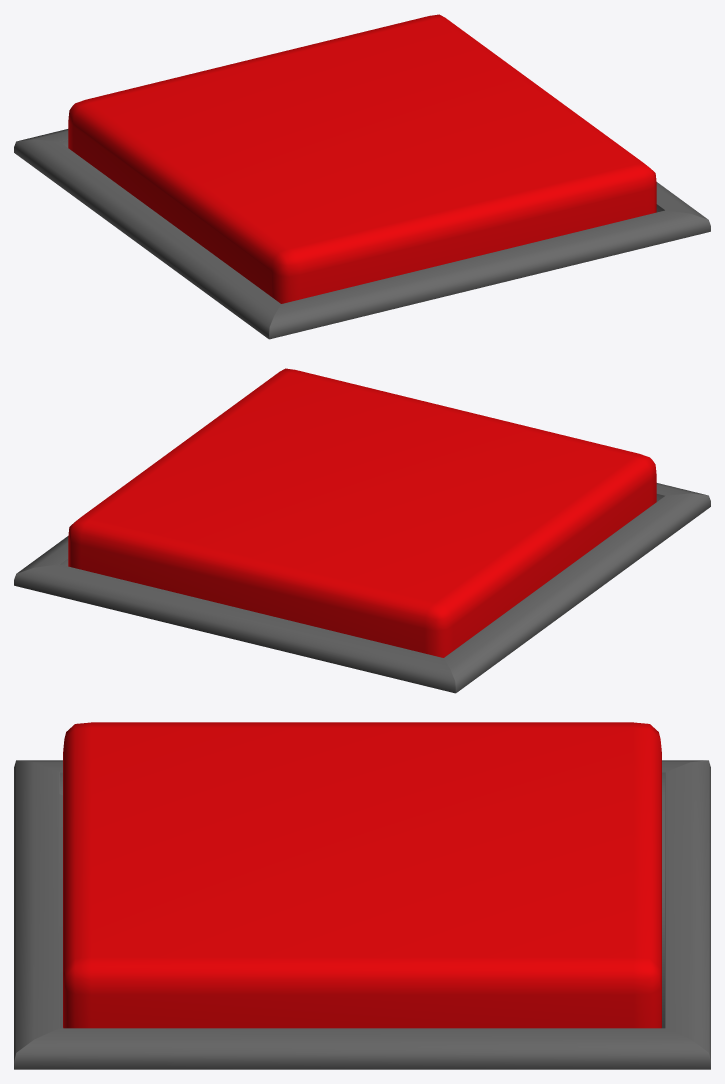
Rendered from Button.fbx.
3 renders of one model, top to bottom at view 1: azimuth 30°, elevation 25°; view 2: azimuth 150°, elevation 25°; view 3: azimuth 270°, elevation 25°, orthographic. The views are drawn at different scales.
Visible parts, largest first — view 1: Button, Base; view 2: Button, Base; view 3: Button, Base.
Part boxes in pixels (left/top/right/bottom): Button: left=68, top=14, right=656, bottom=303; Base: left=14, top=129, right=710, bottom=339; Button: left=68, top=368, right=656, bottom=657; Base: left=14, top=483, right=710, bottom=693; Button: left=63, top=722, right=661, bottom=1028; Base: left=14, top=760, right=710, bottom=1069.
Bounding box in the file's own units: 2 × 0.2523 × 2.
